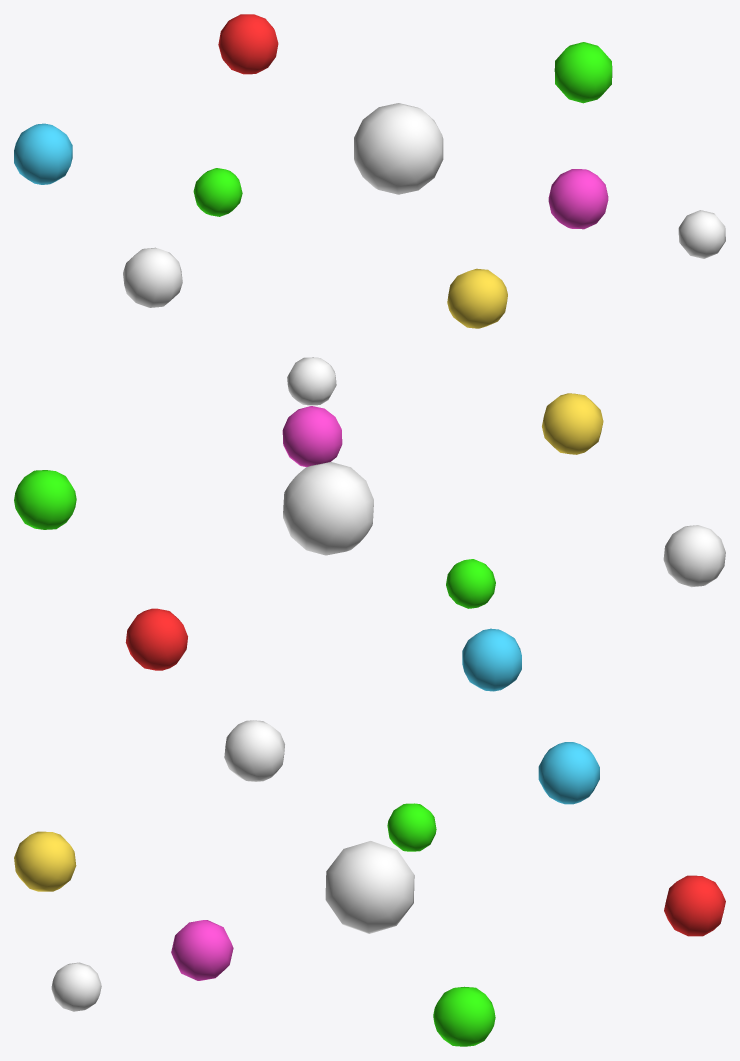
File: s_marbles.glb
The picture shows the model from 3 angles, top to bottom: view 1: azimuth 30°, elevation 25°; view 2: azimuth 150°, elevation 25°; view 3: azimuth 270°, elevation 25°; orthographic projection. The views are drawn at different scales.
Visible parts, largest first — view 1: s_marbles_mesh; view 2: s_marbles_mesh; view 3: s_marbles_mesh.
Boxes of the visible parts, box(x1,y1,x2,y2) form: s_marbles_mesh: box(14, 14, 725, 328); s_marbles_mesh: box(14, 357, 725, 691); s_marbles_mesh: box(14, 720, 725, 1046).
Size of what is drawn, in the model's own units: 0.6587 by 0.0894 by 0.6793.
Materials: 9 (9 with a texture image).
